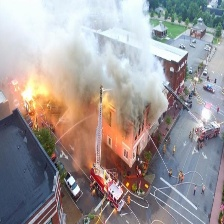fire: (19, 77, 39, 102)
smoke: (1, 3, 173, 127)
